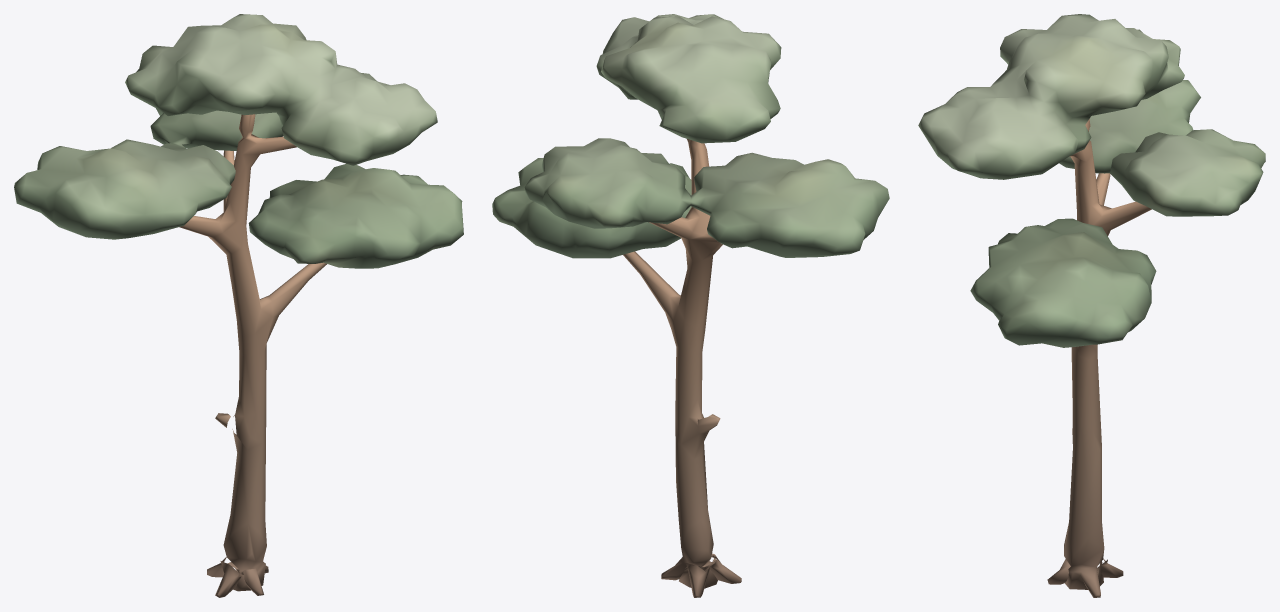
File: tree-pine.glb
3 renders of one model, left to right at view 1: azimuth 30°, elevation 25°; view 2: azimuth 150°, elevation 25°; view 3: azimuth 270°, elevation 25°, orthographic.
Parts seen in each view (by area): view 1: tree-pine; view 2: tree-pine; view 3: tree-pine.
Boxes of the visible parts, box(x1,y1,x2,y2) form: tree-pine: box(14, 14, 463, 597); tree-pine: box(492, 14, 889, 597); tree-pine: box(918, 14, 1265, 597).
Size of the model in its own units: 3.39 by 4.58 by 2.6.
